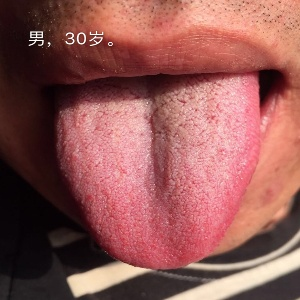st: (46, 96, 269, 266)
